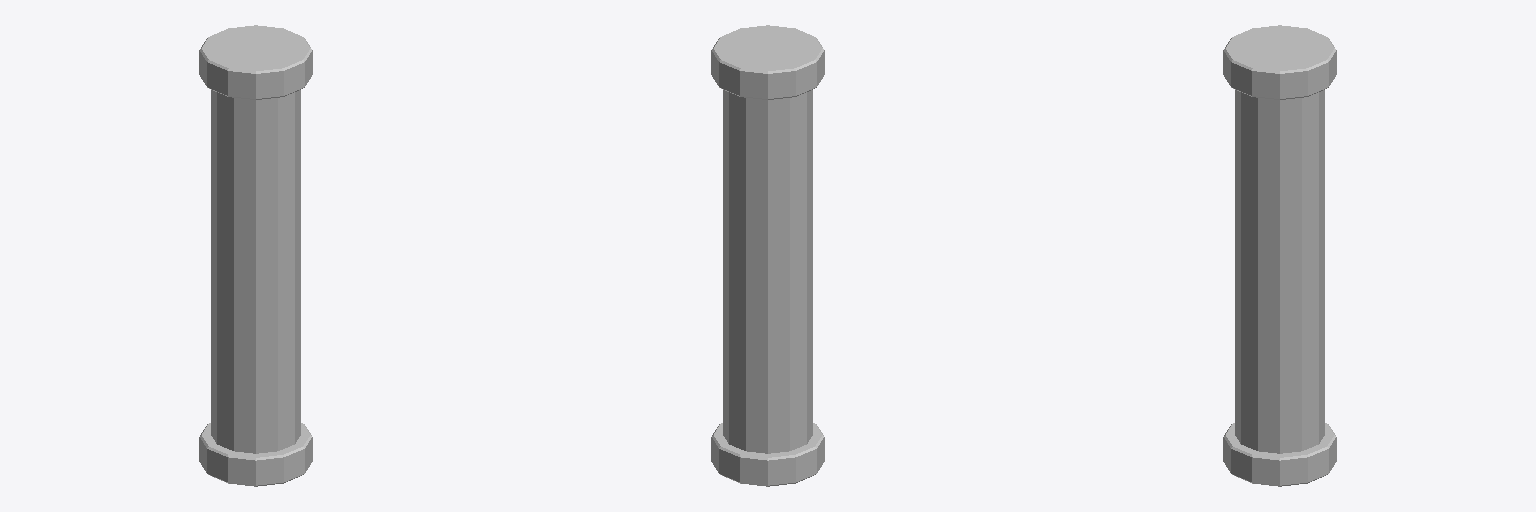
File: column.obj
3 views of the same model, side by side, from view 1: azimuth 30°, elevation 25°; view 2: azimuth 150°, elevation 25°; view 3: azimuth 270°, elevation 25° (orthographic).
Parts seen in each view (by area): view 1: Cylinder2; view 2: Cylinder2; view 3: Cylinder2.
Part boxes in pixels (x1,y1,x2,y2): Cylinder2: (199,25,312,486); Cylinder2: (711,25,824,486); Cylinder2: (1223,25,1336,486).
Size of the model in its own units: 0.5731 by 2.32 by 0.5731.